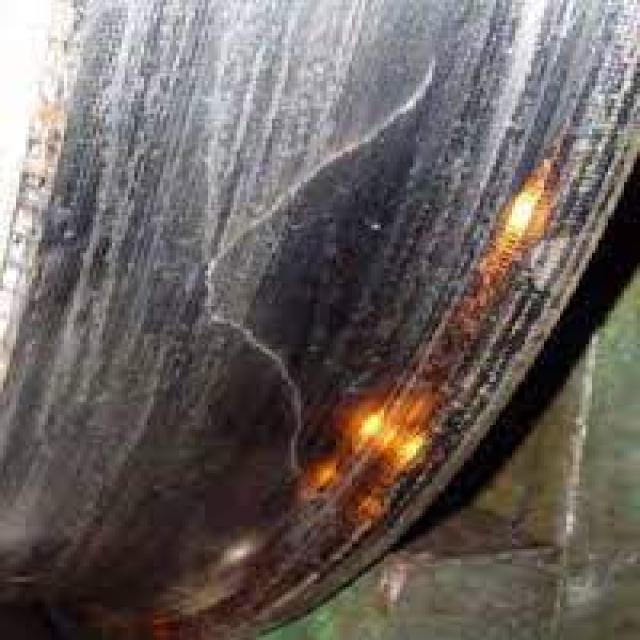Contact_Fatigue_Cracks: (158, 64, 467, 464)
